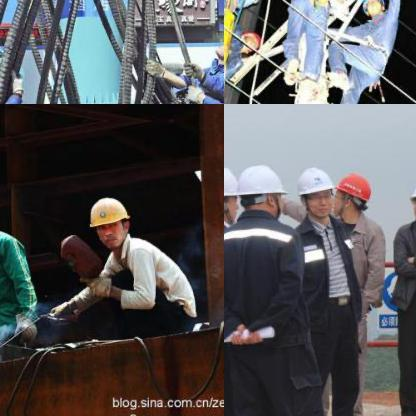Helmet: (227, 163, 283, 217), (86, 191, 134, 249), (330, 168, 370, 222), (293, 162, 333, 214), (224, 162, 247, 218), (236, 25, 264, 50), (406, 175, 415, 224), (359, 0, 386, 15), (215, 38, 223, 64)
